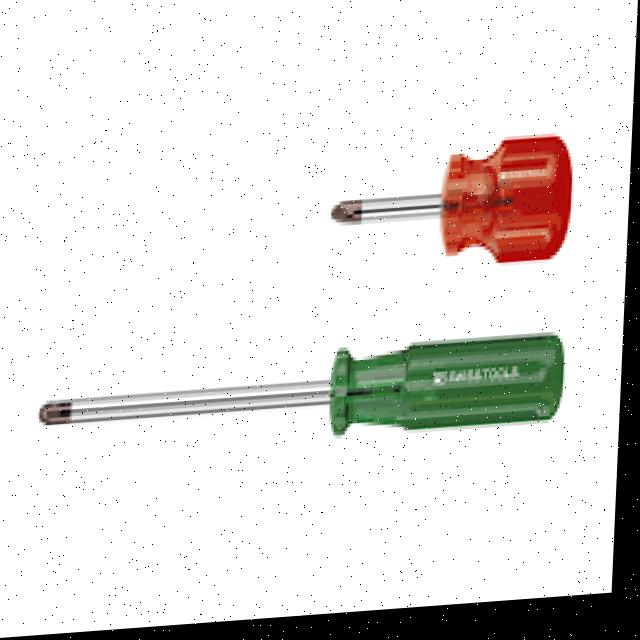Screwdriver: (44, 344, 570, 441), (336, 145, 575, 271)
